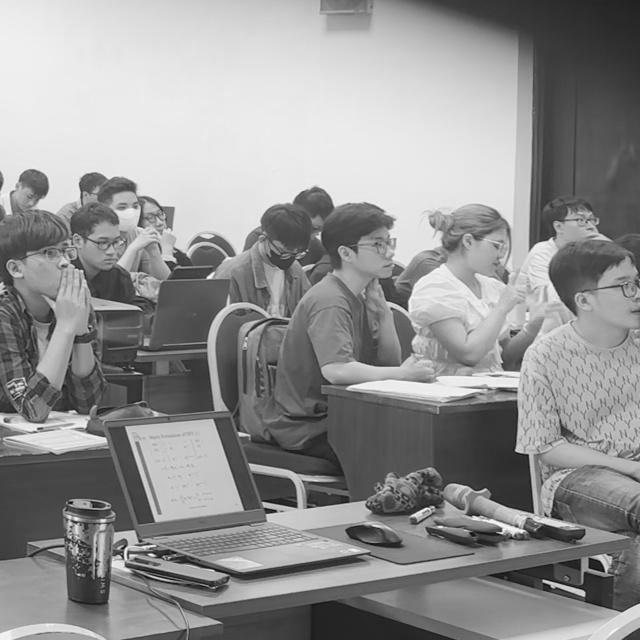Looking away: (463, 229, 508, 273), (83, 222, 121, 272), (259, 230, 297, 268), (12, 182, 37, 212)
Looking forward: (24, 240, 77, 298), (359, 227, 400, 279), (557, 204, 598, 240), (112, 190, 139, 228), (142, 198, 167, 235)
